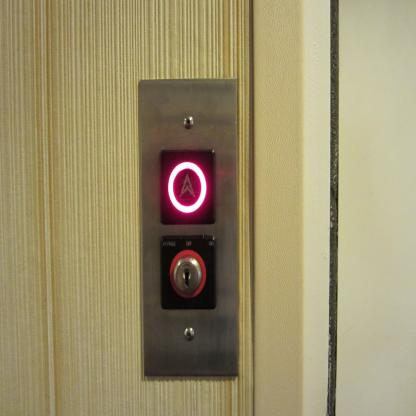bt_keyhole: (160, 236, 216, 310)
up: (160, 152, 214, 224)
